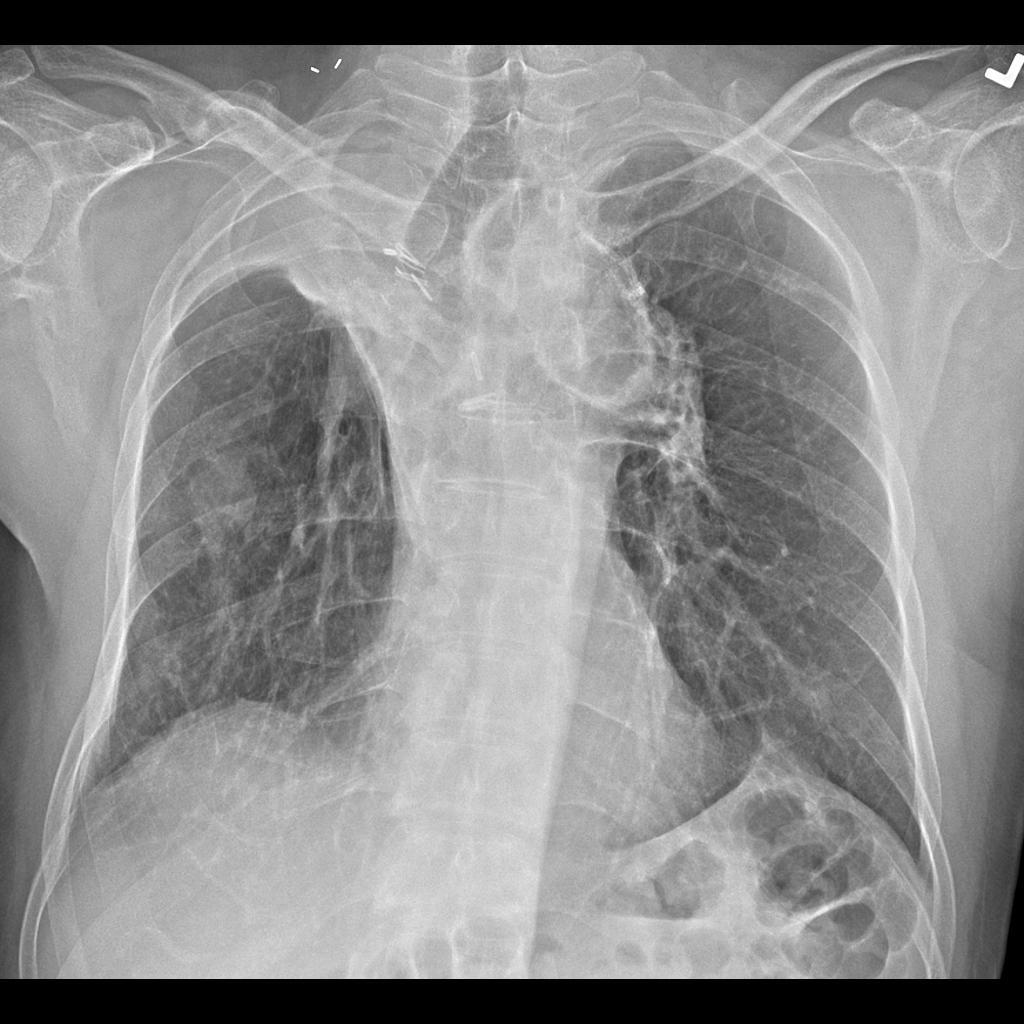Nodule: (189, 456, 268, 542)
